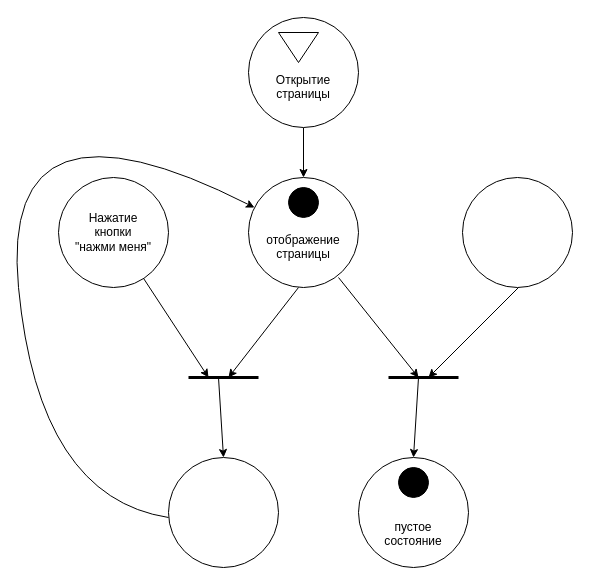
This 591x585 diagram has some shape labels left out. The shapes that lost their labels are listed below. From the top down, each one's centre as x and y in pixels, then its label:
[517,232]: Нажатие кнопки "размонтировать"
[223,512]: Добавление новой информации о отработавших хуках
